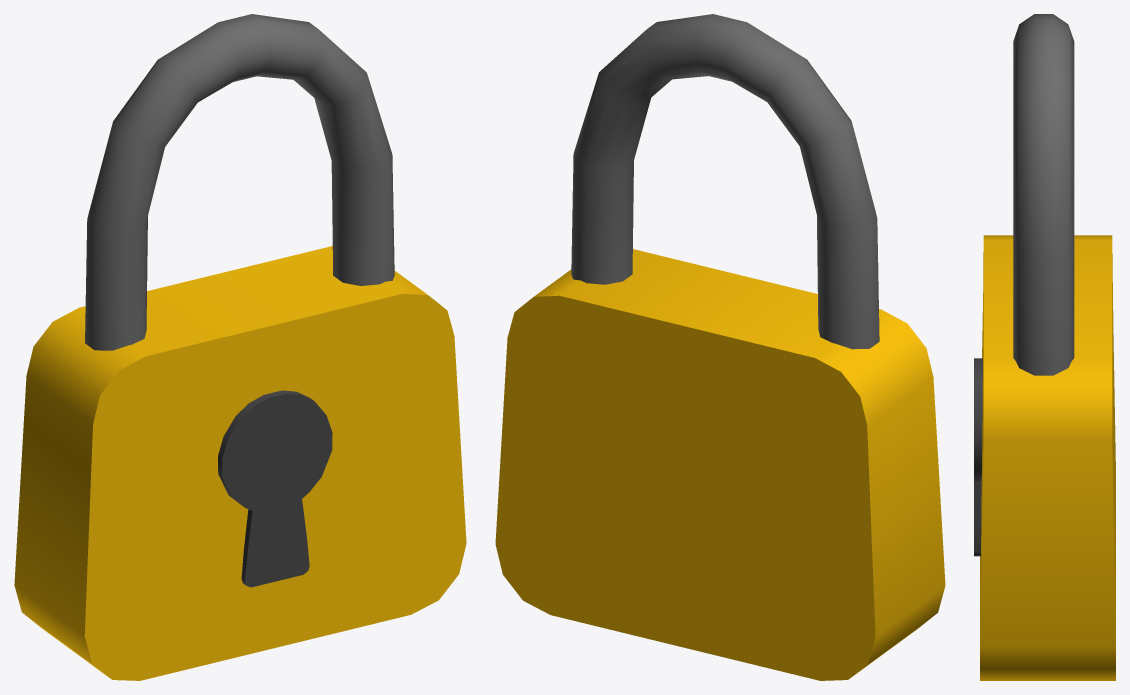
Rendered from Lock_2.fbx.
3 views of the same model, side by side, from view 1: azimuth 30°, elevation 25°; view 2: azimuth 150°, elevation 25°; view 3: azimuth 270°, elevation 25° (orthographic). The views are drawn at different scales.
Visible parts, largest first — view 1: Lock_2; view 2: Lock_2; view 3: Lock_2.
Boxes of the visible parts, <box> form: Lock_2: <box>14,14,466,680</box>; Lock_2: <box>495,14,945,680</box>; Lock_2: <box>974,14,1115,680</box>.
Size of the model in its own units: 0.1049 by 0.1582 by 0.0349.
